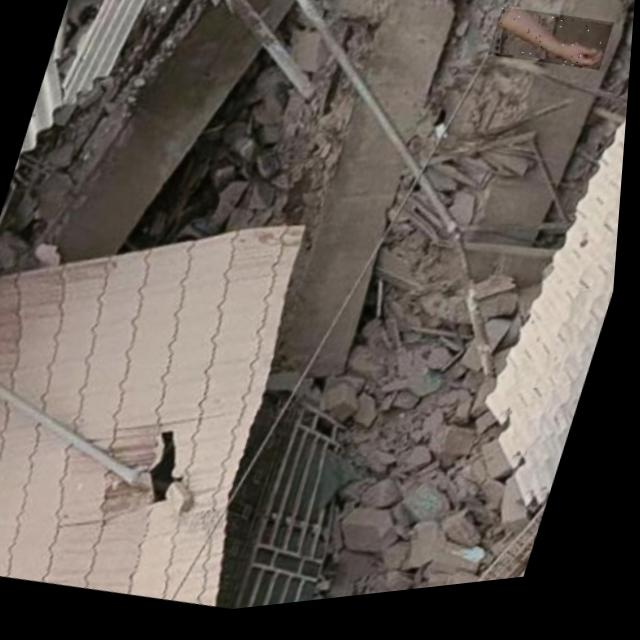Person in Rubble: (488, 7, 617, 93)
